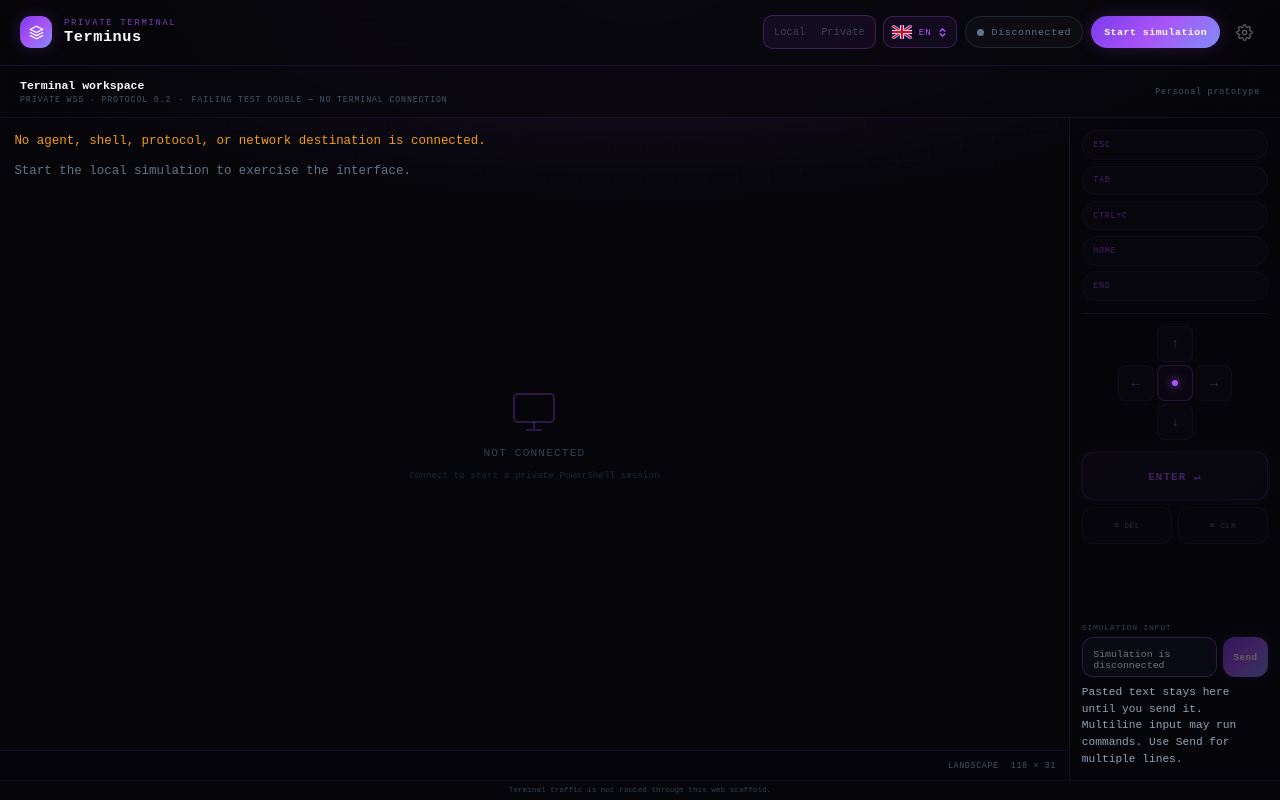
TerminalShell › reports a failed connection and exposes a retry control
What coordinates should you click on to do the following:
click the button "Start simulation"
I would click on:
 (1156, 32)
Its box is 1091,16 -> 1220,48.
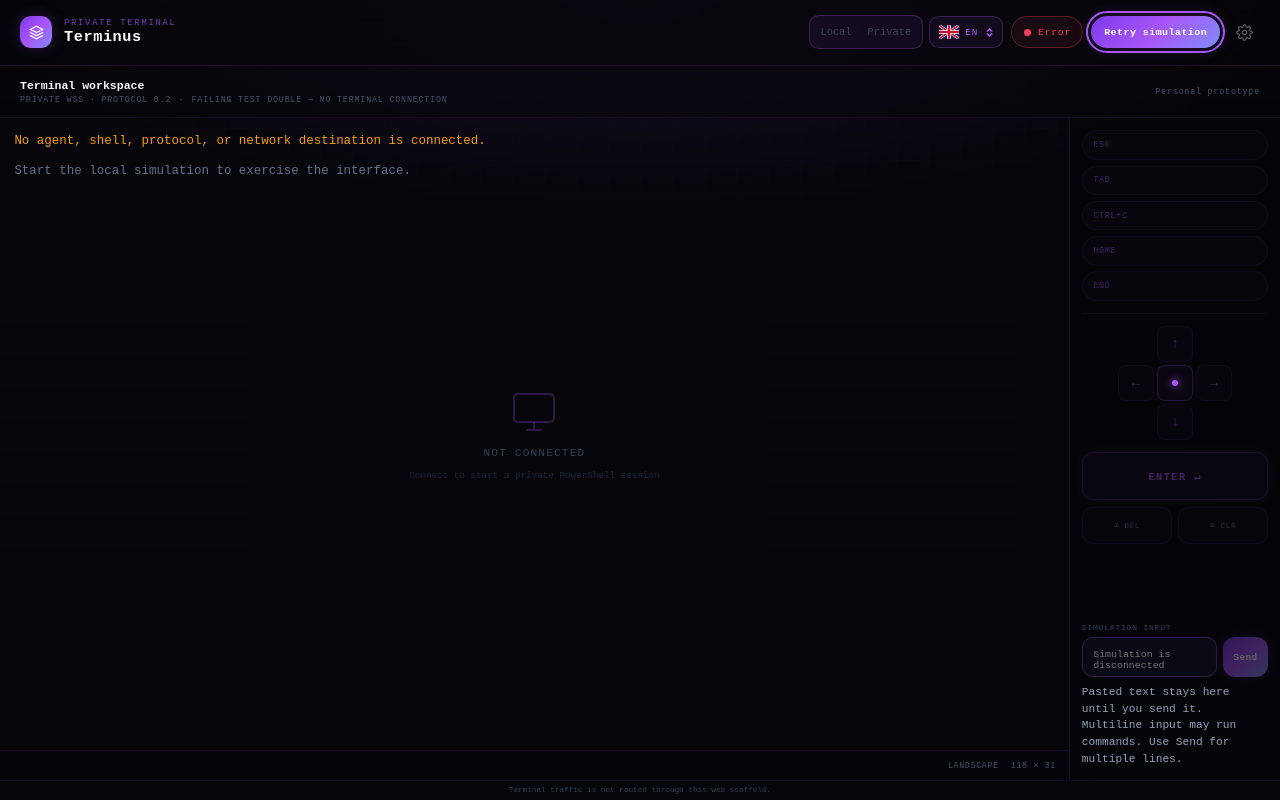
Expected: the message reads "Error", 1038,27 -> 1071,38
